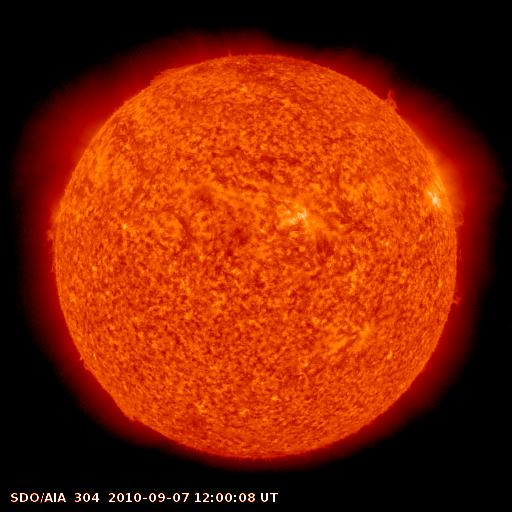prominence: (36, 199, 65, 274), (375, 76, 408, 119)
